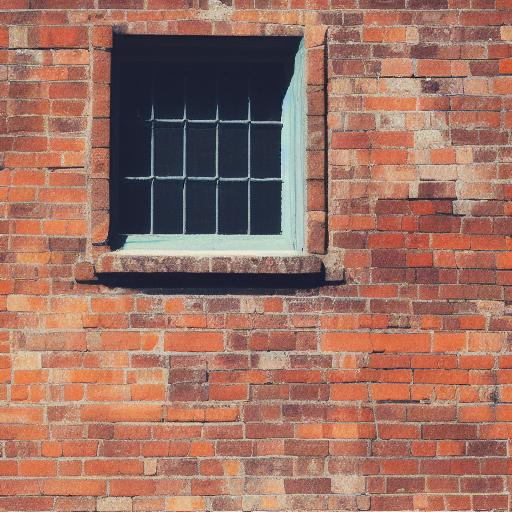Window: (75, 20, 346, 289)
